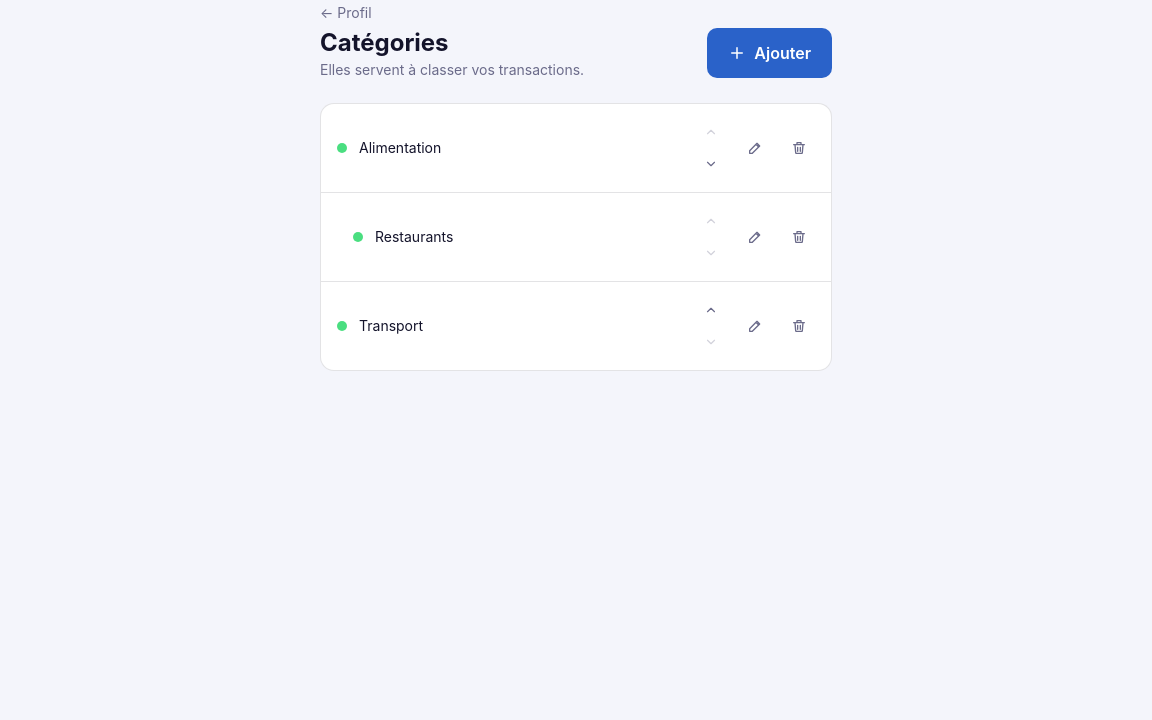
Test: CategoriesPage — suppression › propose la recatégorisation (sans la catégorie supprimée) et l'envoie
Click the button named "Supprimer Alimentation" at (799,148), box x1=783 y1=132 x2=815 y2=164
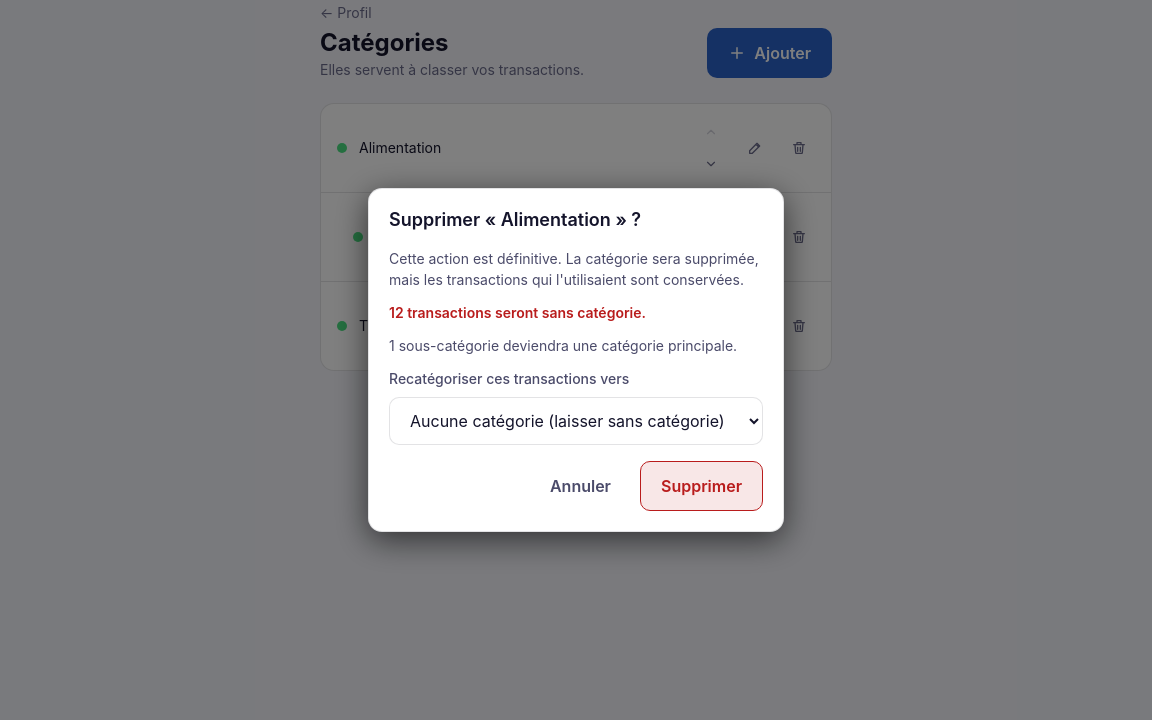
Select "Transport" in the dropdown with id "reassign-to" at (576,421), box x1=389 y1=397 x2=763 y2=445
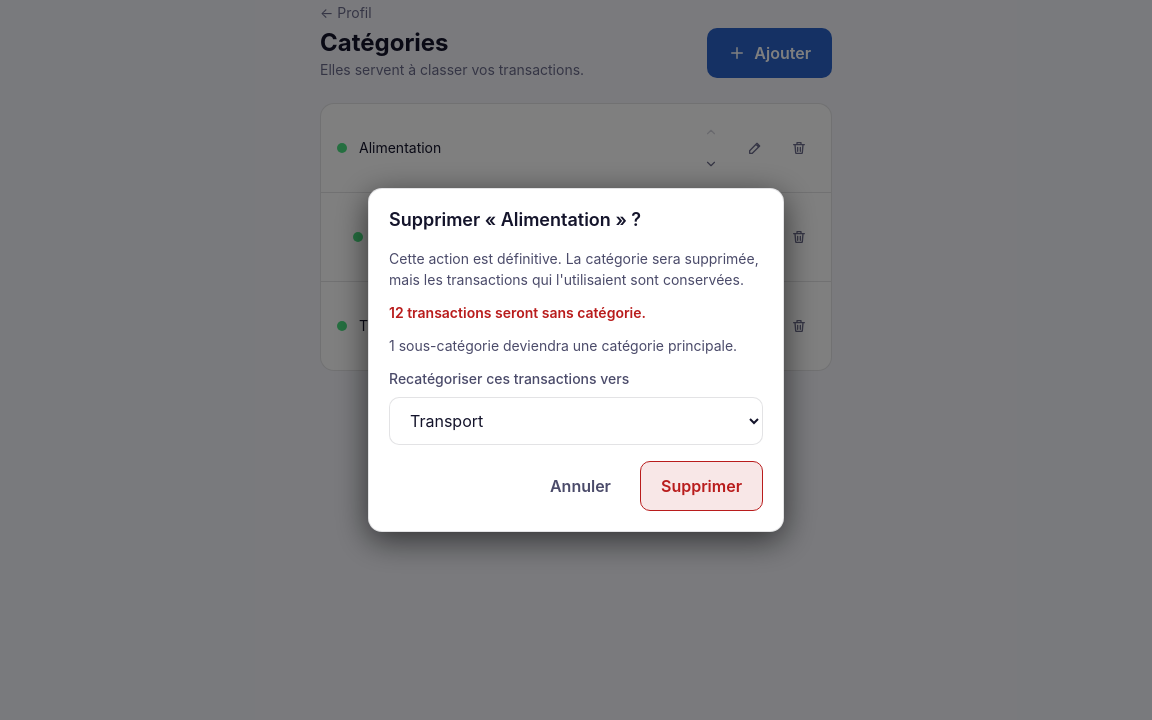
Click the button "Supprimer" at (702,486), box x1=640 y1=461 x2=763 y2=511
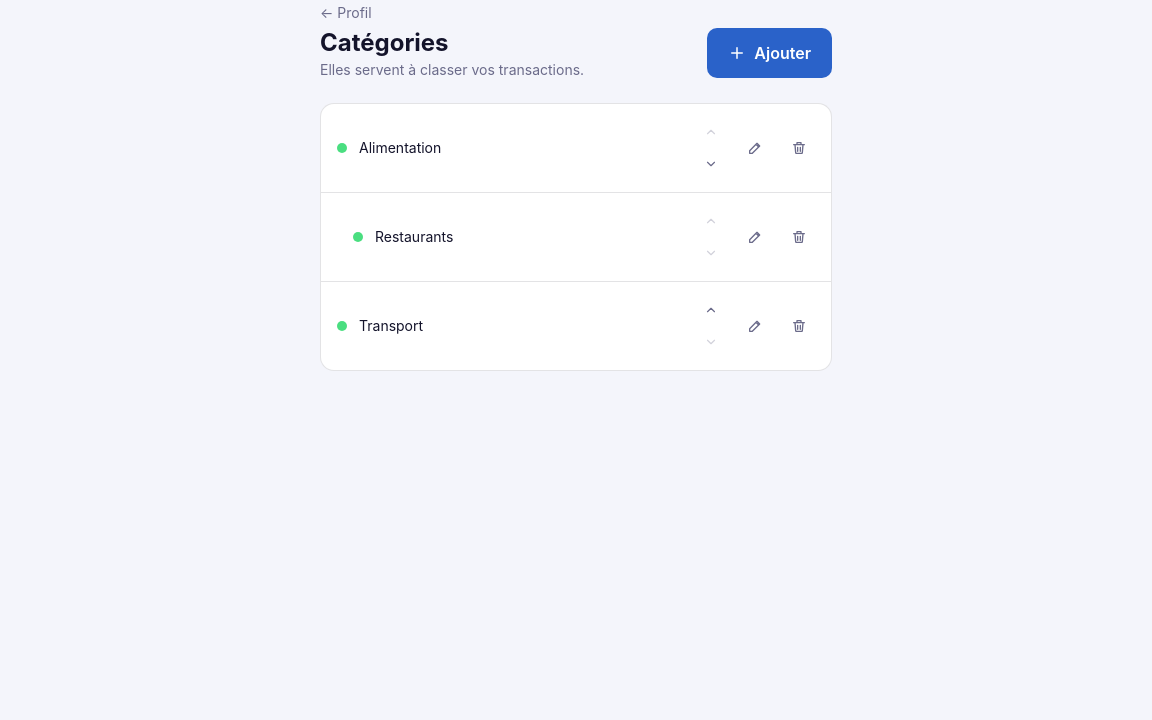
Check: the dialog is gone
